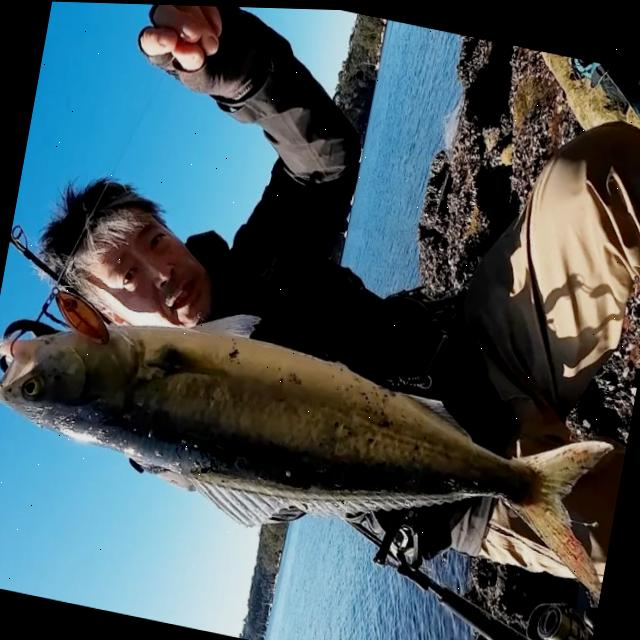Australian Salmon: (0, 284, 631, 584)
